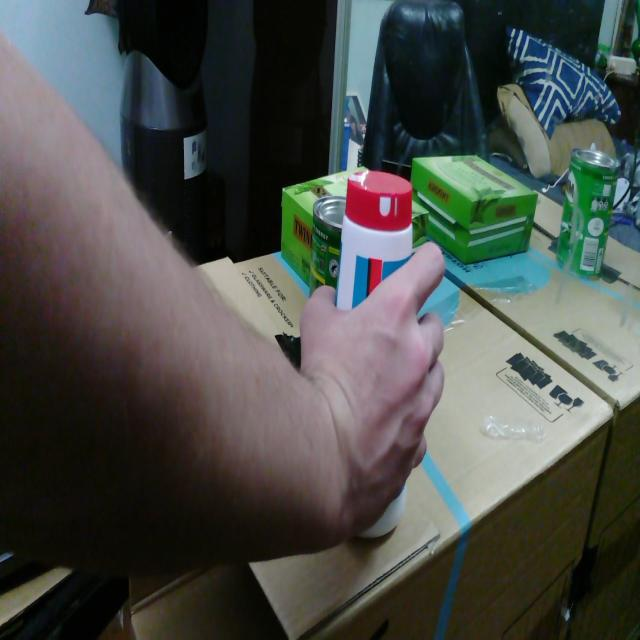nestle_milo_tin: (309, 195, 346, 298)
twinings_greentea_box: (281, 167, 369, 288), (412, 200, 429, 248)
woolworths_salt_bottle: (335, 171, 413, 310), (357, 481, 406, 537)
